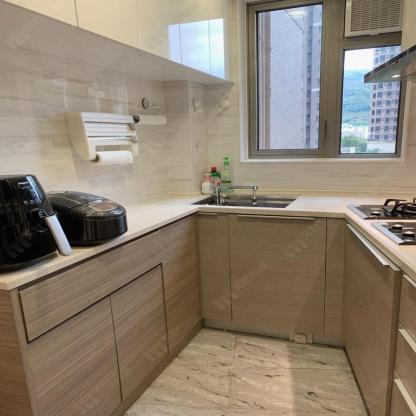Exhaust Fan: (344, 0, 404, 37)
Faucet: (211, 184, 258, 206)
Sink: (182, 193, 302, 209)
Stove: (331, 193, 415, 258)
